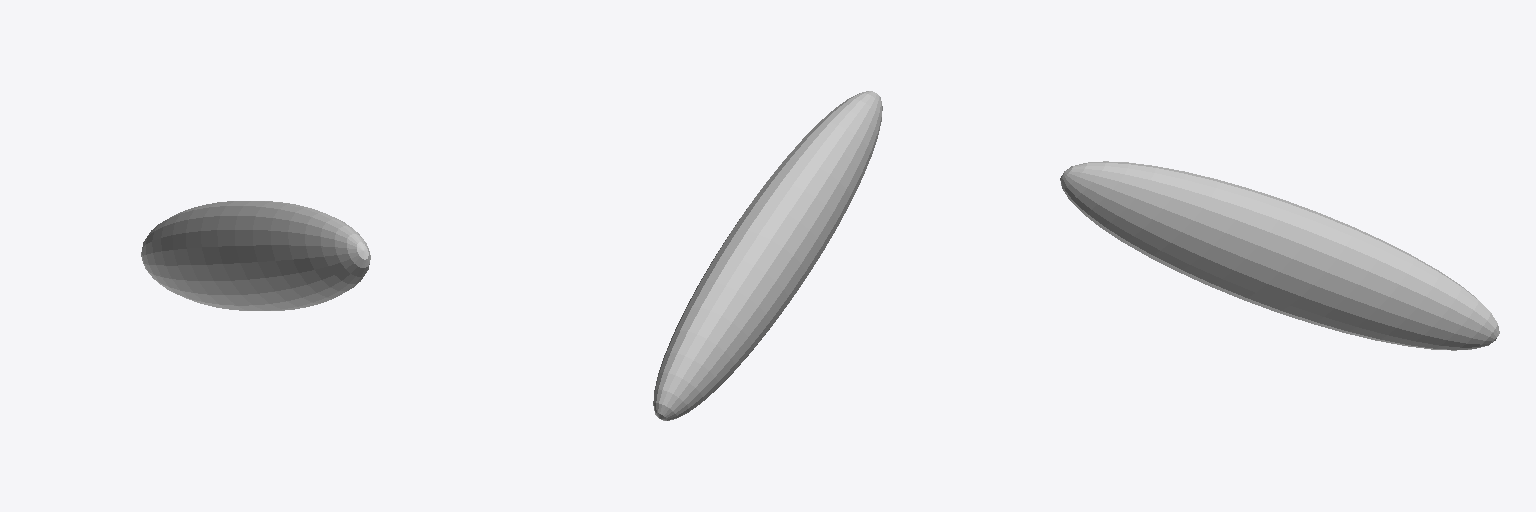
Rendered from playerArm.obj.
3 views of the same model, side by side, from view 1: azimuth 30°, elevation 25°; view 2: azimuth 150°, elevation 25°; view 3: azimuth 270°, elevation 25° (orthographic).
Visible parts, largest first — view 1: Arm:group4 Arm:initialShadingGroup Arm:pasted__pSphere2 Arm:poly; view 2: Arm:group4 Arm:initialShadingGroup Arm:pasted__pSphere2 Arm:poly; view 3: Arm:group4 Arm:initialShadingGroup Arm:pasted__pSphere2 Arm:poly.
Part boxes in pixels (x1,y1,x2,y2): Arm:group4 Arm:initialShadingGroup Arm:pasted__pSphere2 Arm:poly: (141,201,370,310); Arm:group4 Arm:initialShadingGroup Arm:pasted__pSphere2 Arm:poly: (653,91,882,420); Arm:group4 Arm:initialShadingGroup Arm:pasted__pSphere2 Arm:poly: (1060,161,1499,350).
Bounding box in the file's own units: 0.2754 × 0.7394 × 1.58.